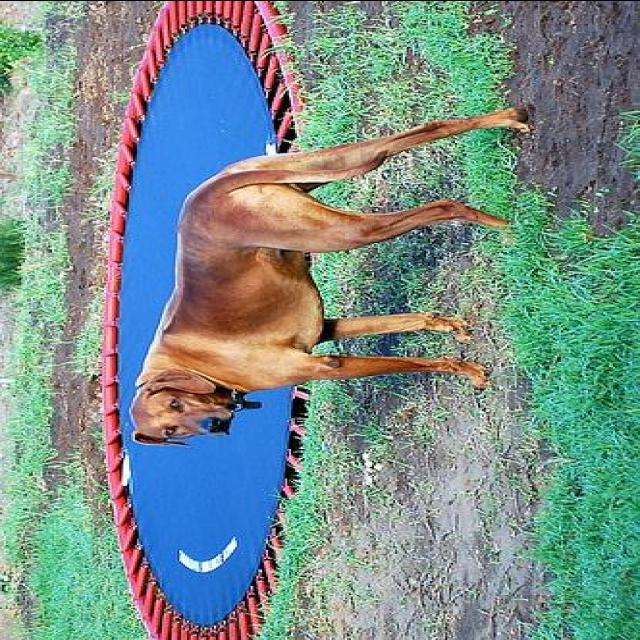rhodesian_ridgeback: (128, 102, 538, 448)
